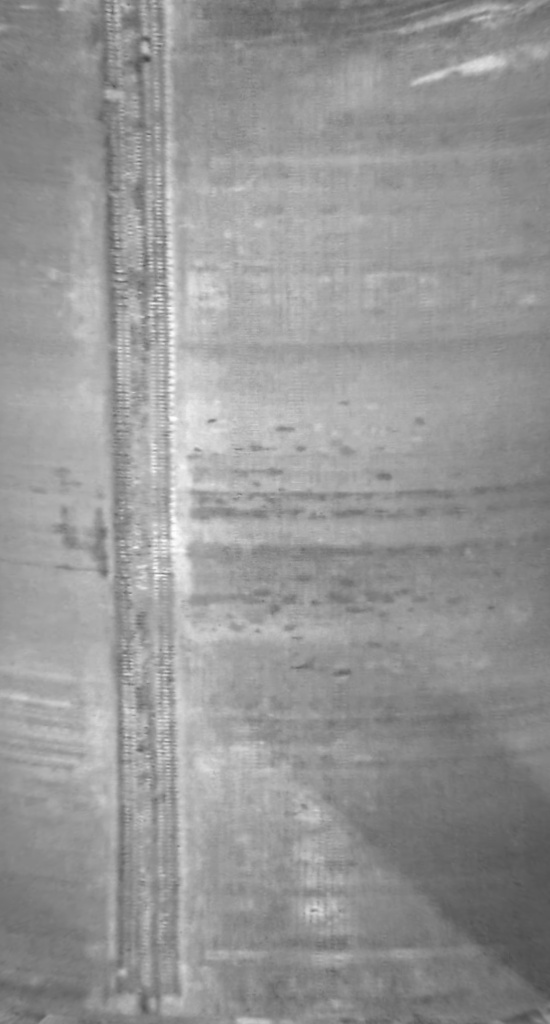splice: (92, 1, 195, 1024)
